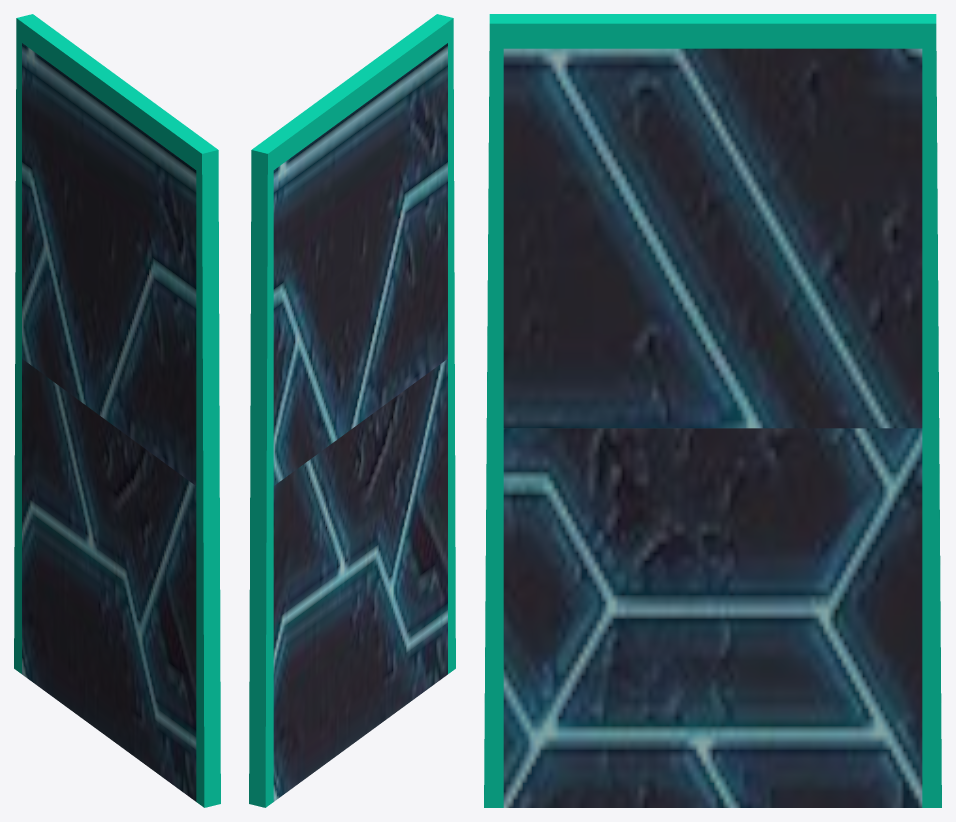
File: Door.fbx
3 renders of one model, left to right at view 1: azimuth 30°, elevation 25°; view 2: azimuth 150°, elevation 25°; view 3: azimuth 270°, elevation 25°, orthographic. The views are drawn at different scales.
Visible parts, largest first — view 1: Plane.003, Plane.002, Plane.001; view 2: Plane.003, Plane.002, Plane.001; view 3: Plane.002, Plane.003, Plane.001.
Part boxes in pixels (<box>): Plane.003: <box>22,359,196,801</box>; Plane.002: <box>22,43,196,485</box>; Plane.001: <box>14,14,220,807</box>; Plane.003: <box>273,359,447,801</box>; Plane.002: <box>273,43,447,485</box>; Plane.001: <box>249,14,455,807</box>; Plane.002: <box>503,48,922,428</box>; Plane.003: <box>503,428,922,807</box>; Plane.001: <box>484,14,941,807</box>.
Bounding box in the file's own units: 10.92 × 413 × 219.
